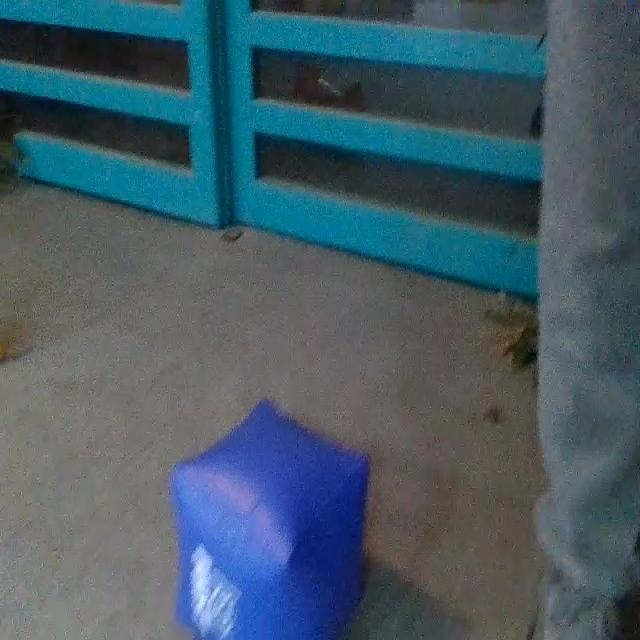cube: (176, 394, 368, 640)
